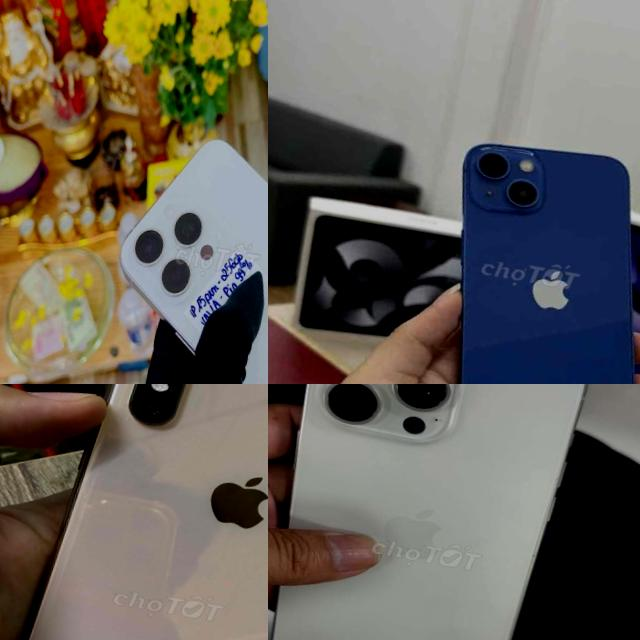gen_12_13: (410, 128, 640, 384), (78, 121, 268, 384)
gen_15: (268, 384, 620, 640)
gen_x_xs: (27, 384, 268, 640)
scratch: (305, 384, 464, 447)
